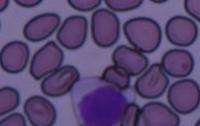L: (71, 74, 131, 126)
